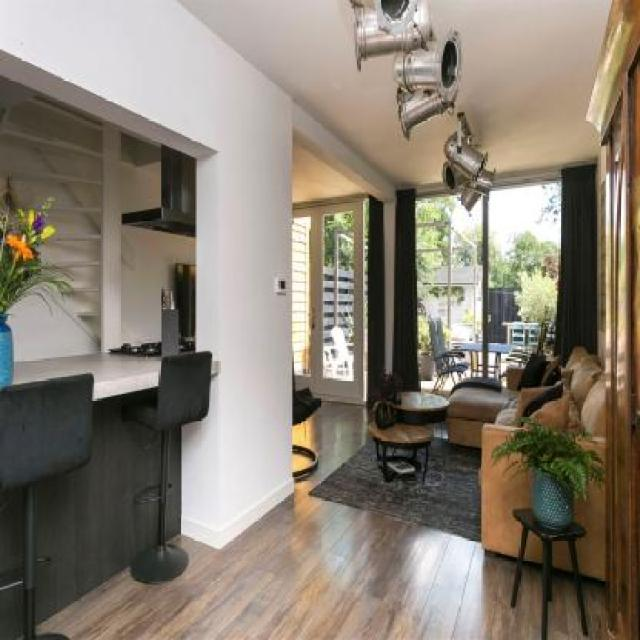floor: (32, 396, 541, 640)
